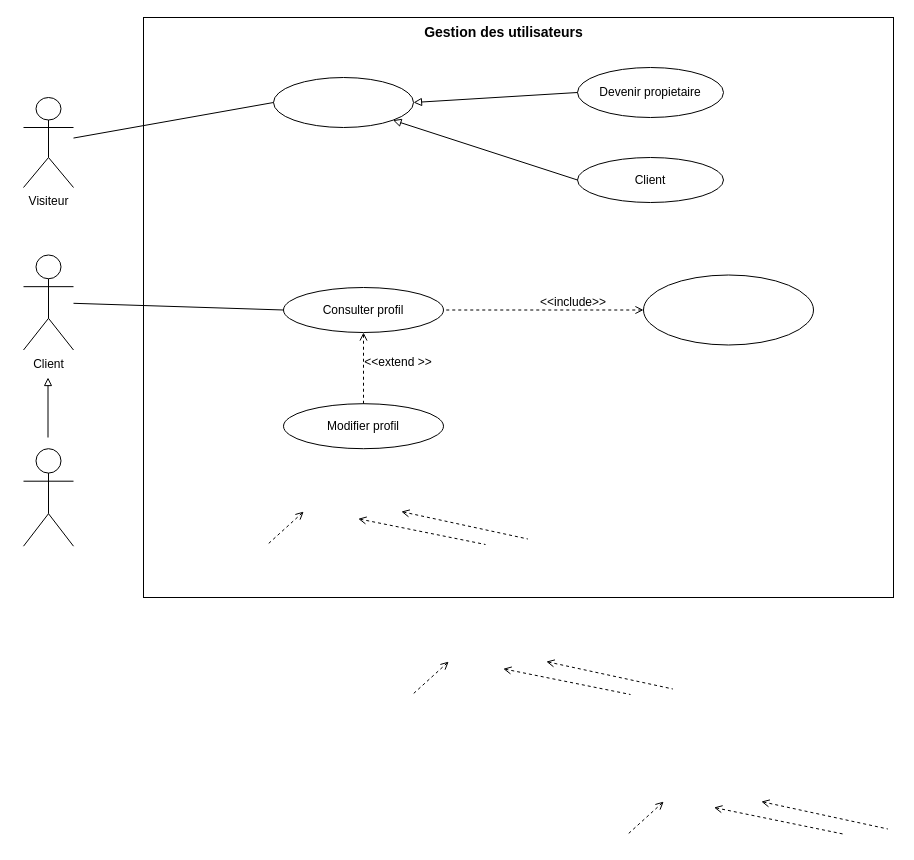
This 914x860 diagram has some shape labels left out. Each missing label, with the box of its shape:
Proprietaire: (22, 448, 74, 546)
S'authentifier: (642, 274, 814, 345)
S'inscrire: (272, 76, 414, 128)
